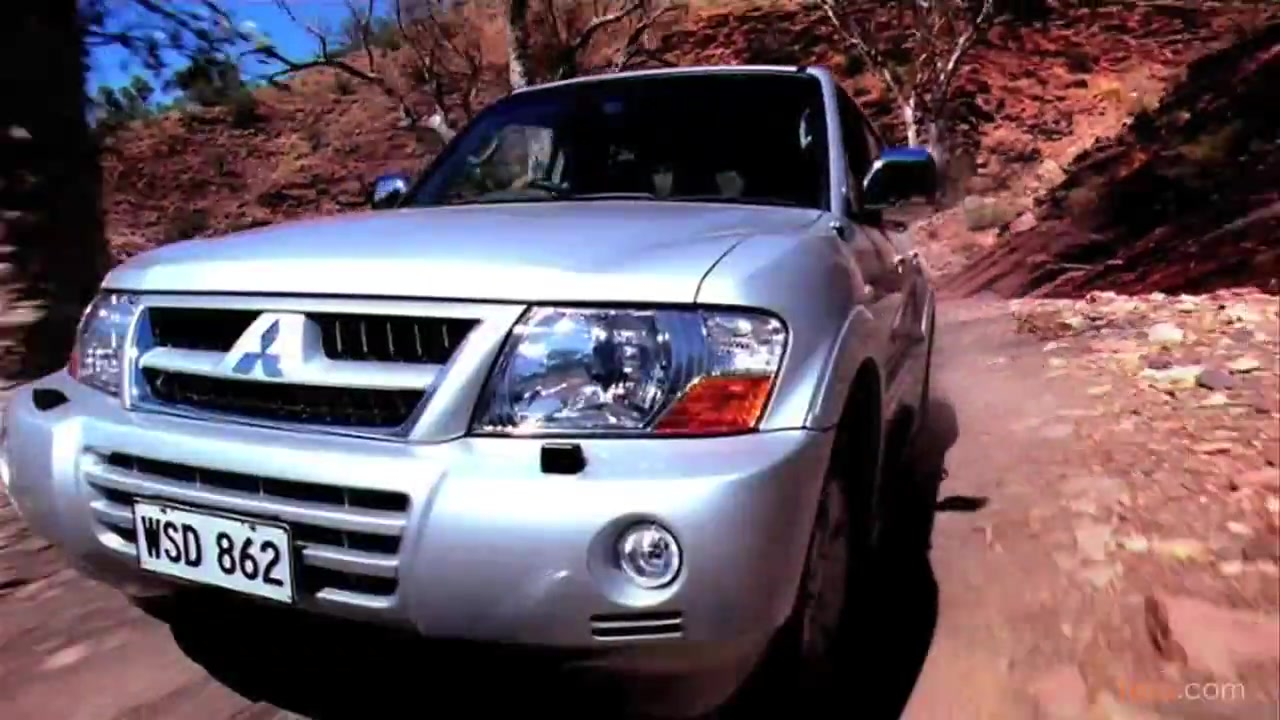car: (4, 60, 940, 717)
